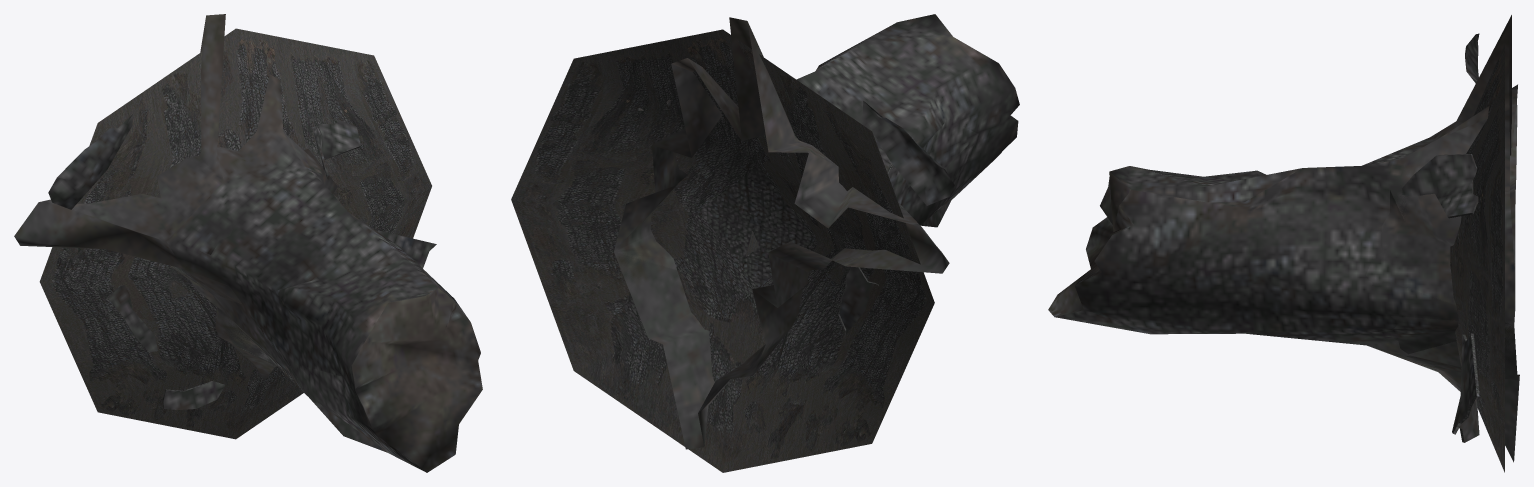
The model's file is hd_env_UNI_007_SnagHeap_07.fbx.
3 views of the same model, side by side, from view 1: azimuth 30°, elevation 25°; view 2: azimuth 150°, elevation 25°; view 3: azimuth 270°, elevation 25° (orthographic). The views are drawn at different scales.
Visible parts, largest first — view 1: set_0_group_0, set_0_group_2, set_0_group_1; view 2: set_0_group_0, set_0_group_1, set_0_group_2; view 3: set_0_group_2, set_0_group_1, set_0_group_0.
Boxes of the visible parts, left/top/right/bottom form: set_0_group_0: left=39, top=28, right=431, bottom=439; set_0_group_2: left=184, top=164, right=482, bottom=472; set_0_group_1: left=14, top=14, right=436, bottom=409; set_0_group_0: left=511, top=29, right=934, bottom=472; set_0_group_1: left=614, top=17, right=954, bottom=449; set_0_group_2: left=615, top=14, right=1019, bottom=337; set_0_group_2: left=1048, top=147, right=1517, bottom=379; set_0_group_1: left=1366, top=15, right=1519, bottom=462; set_0_group_0: left=1450, top=44, right=1504, bottom=472.
Bounding box in the file's own units: 164 × 162 × 158.
3 materials, 3 textured.
